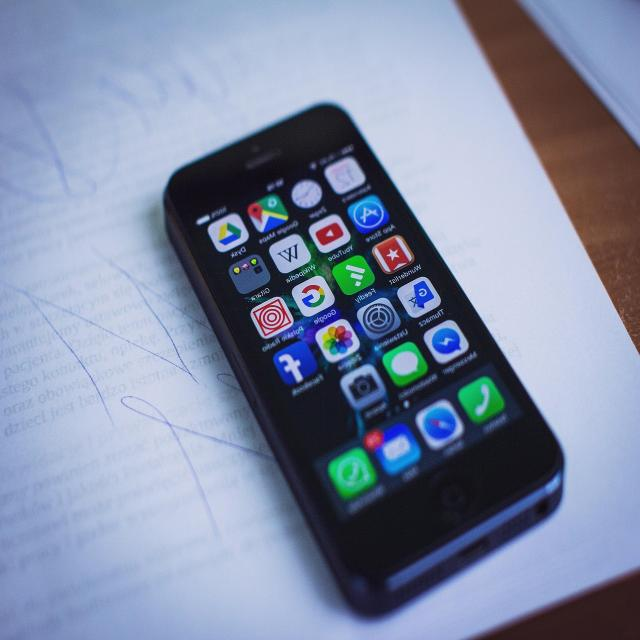Mobile: (147, 75, 569, 627)
